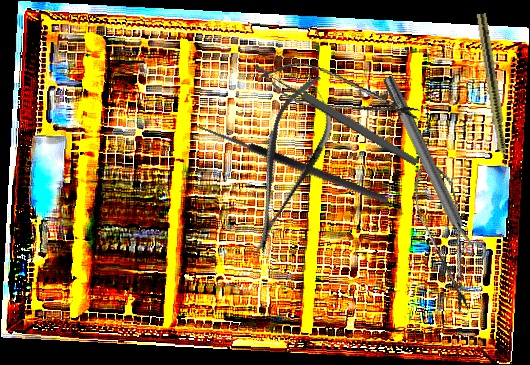Fixation Ring: (374, 69, 491, 270)
Handpiece: (474, 13, 513, 180)
Hook Surgical: (188, 120, 390, 214)
Micro Scissor: (230, 67, 347, 262), (403, 146, 486, 318), (253, 53, 426, 133)
Surgical Spoon: (252, 61, 420, 168)
